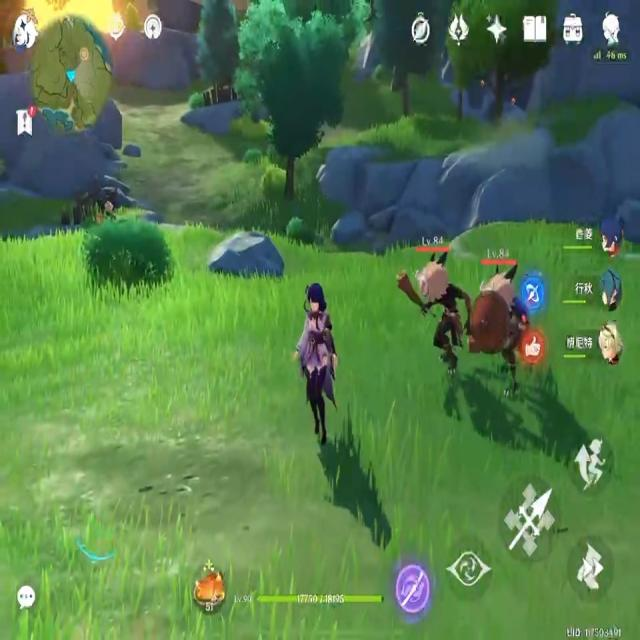genshin-hilichurls: (391, 241, 469, 393), (476, 244, 526, 404)
